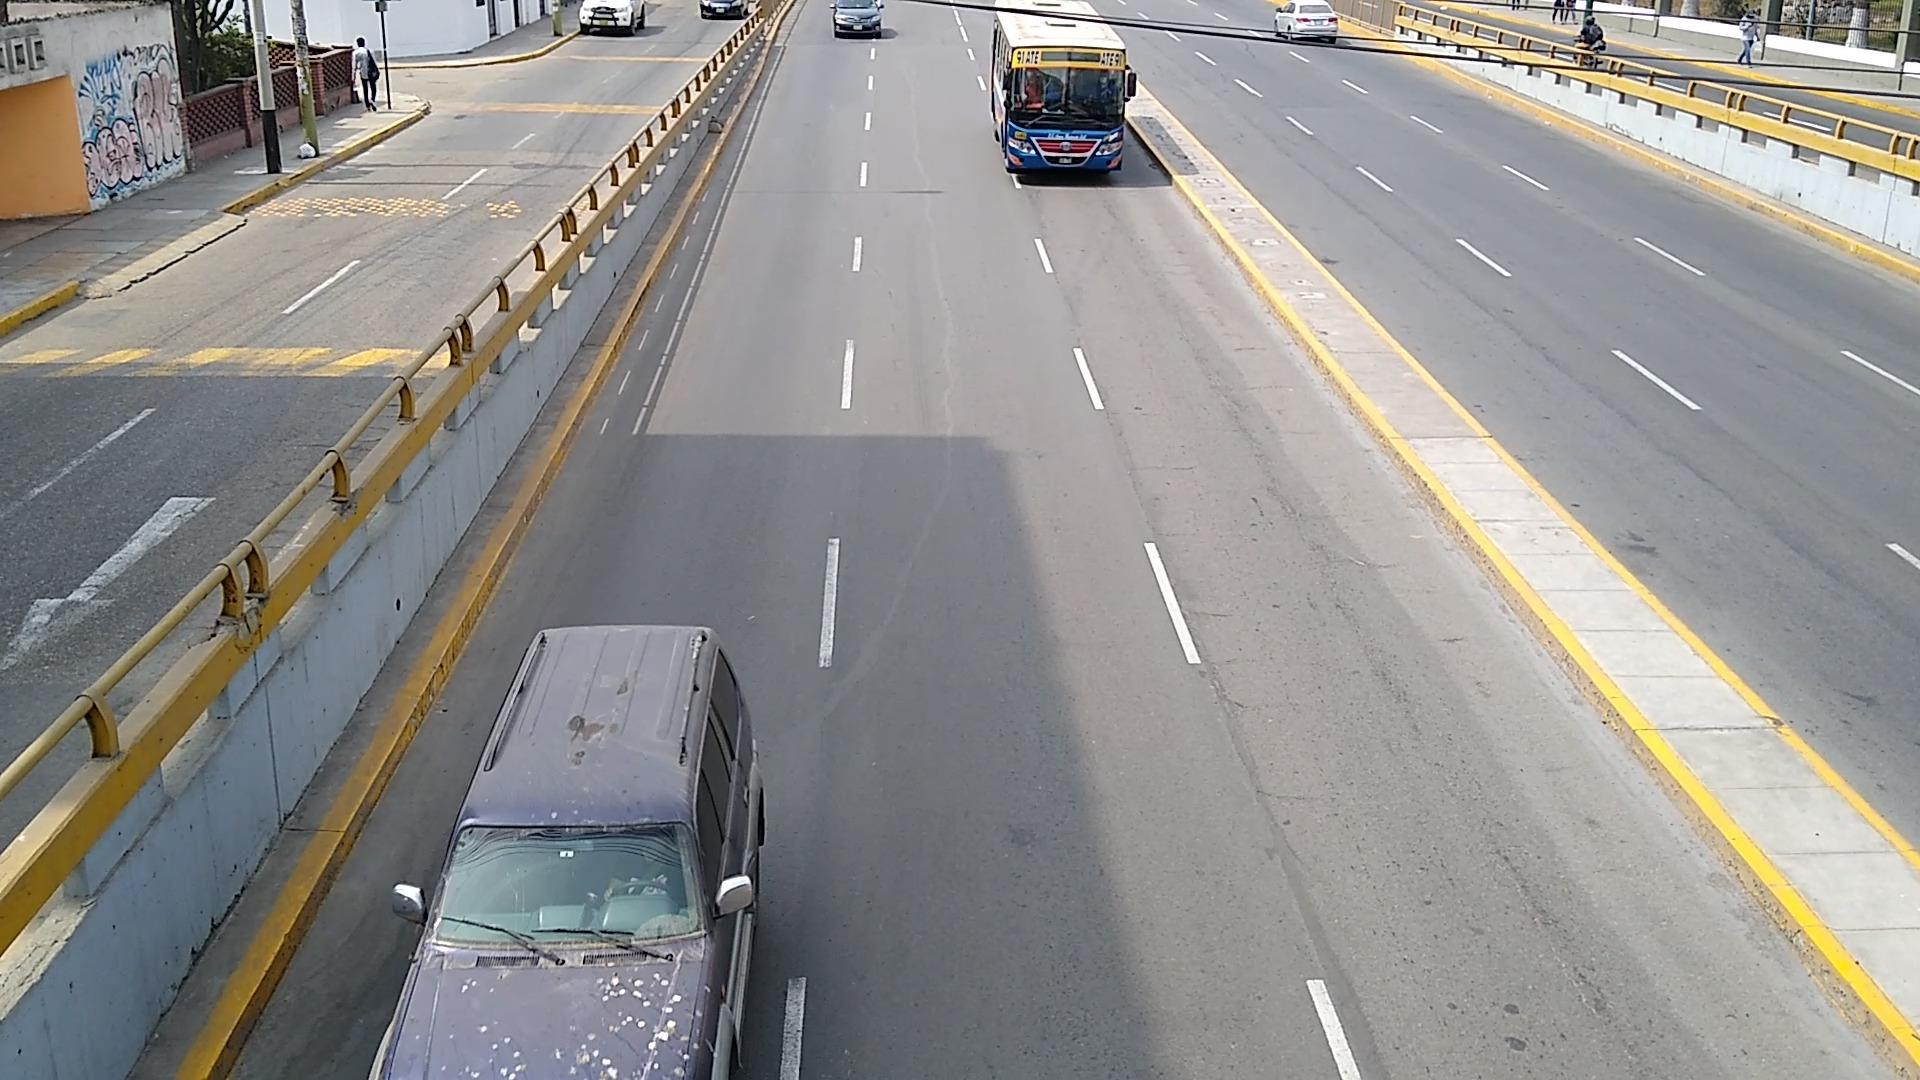bus: (990, 0, 1137, 174)
car: (372, 626, 765, 1080), (1275, 0, 1338, 44), (578, 0, 645, 34)
